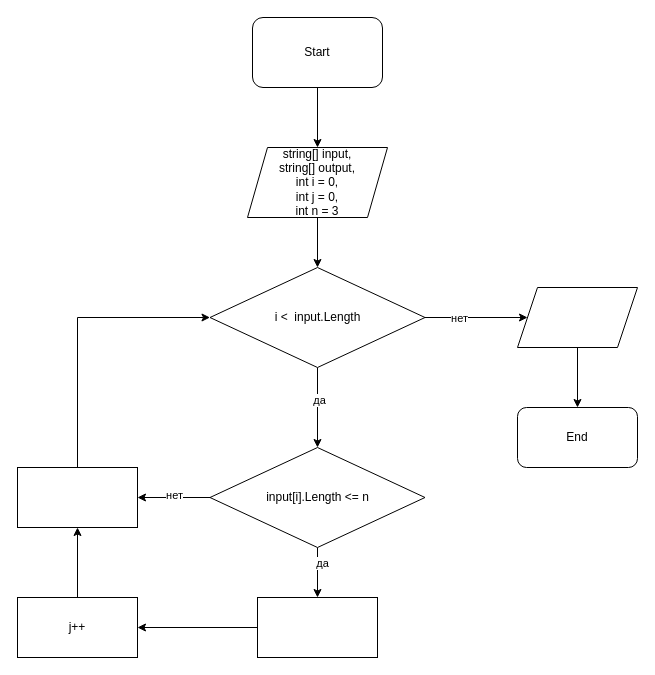
This 655x675 diagram has some shape labels left out. Each missing label, with the centre of its shape:
i++: [77,497]
output: [577,317]
output[j] = input[i]: [317,627]
